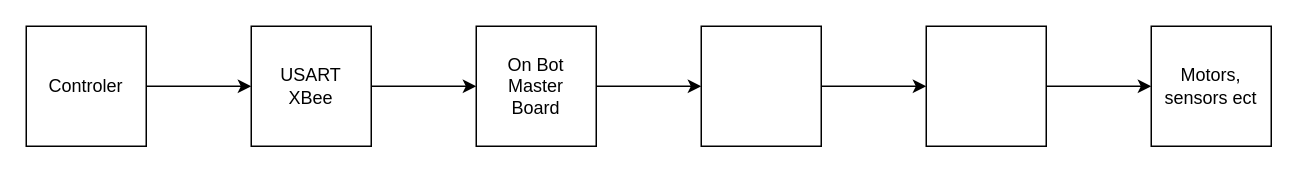
Some shapes in this 1298 by 173 pixel diagram are drawn without their labels. Here are the shapes that lost their labels. From the top down, the centre of each, then its label:
(x=760, y=85): Slave Boards
(x=985, y=85): Peripherals Boards
